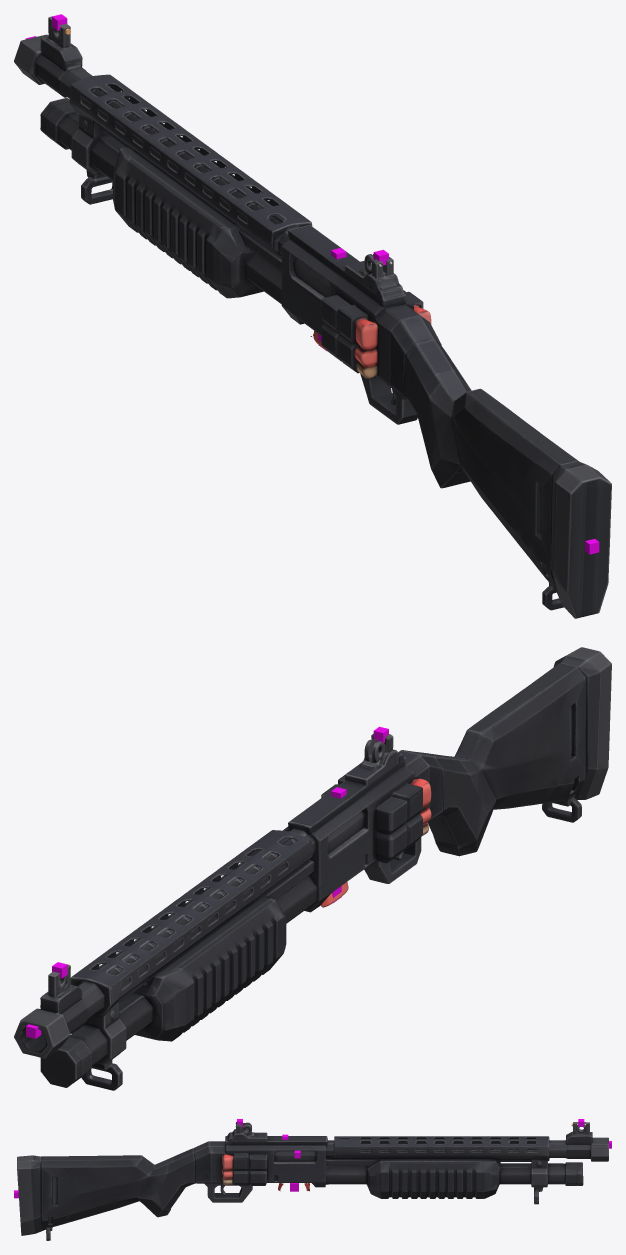
File: Shotgun.glb
3 renders of one model, top to bottom at view 1: azimuth 30°, elevation 25°; view 2: azimuth 150°, elevation 25°; view 3: azimuth 270°, elevation 25°, orthographic. The views are drawn at different scales.
Parts seen in each view (by area): view 1: Skin_Body_05, Skin_Body_06, Skin_Body_04, Skin_Body_01, Skin_Tube, Pump_05, Skin_Body_03, Skin_Barrel_01, Skin_Body_02, Skin_Barrel_08, Pump_03, Skin_Barrel_05 (+8 smaller); view 2: Skin_Body_05, Skin_Body_01, Skin_Body_06, Skin_Body_02, Skin_Tube, Skin_Barrel_01, Pump_01, Skin_Body_04, Skin_Body_03, Skin_Barrel_08, Skin_Barrel_05, Pump_03 (+8 smaller); view 3: Skin_Body_05, Skin_Body_01, Skin_Body_06, Skin_Body_04, Skin_Tube, Skin_Body_02, Skin_Barrel_01, Skin_Body_03, Pump_01, Pump_05, Pump_03, Pump_04 (+8 smaller).
Boxes of the visible parts, x1,y1,x2,y2 form: Skin_Body_05: (409,346,567,579); Skin_Body_06: (536,453,611,618); Skin_Body_04: (357,290,446,424); Skin_Body_01: (246,225,356,335); Skin_Tube: (40,98,125,204); Pump_05: (197,214,263,298); Skin_Body_03: (338,256,423,413); Skin_Barrel_01: (14,16,92,98); Skin_Body_02: (321,254,408,390); Skin_Barrel_08: (245,203,312,268); Pump_03: (153,181,204,270); Skin_Barrel_05: (150,133,224,185); Skin_Body_05: (423,669,578,856); Skin_Body_01: (132,788,366,1028); Skin_Body_06: (542,647,611,822); Skin_Body_02: (321,738,413,878); Skin_Tube: (40,994,150,1090); Skin_Barrel_01: (14,965,109,1058); Pump_01: (134,956,203,1041); Skin_Body_04: (389,750,451,874); Skin_Body_03: (339,734,430,883); Skin_Barrel_08: (246,822,313,891); Skin_Barrel_05: (151,893,226,947); Pump_03: (195,924,246,1013); Skin_Body_05: (44,1150,189,1226); Skin_Body_01: (273,1136,501,1187); Skin_Body_06: (17,1155,55,1240); Skin_Body_04: (186,1135,229,1202); Skin_Tube: (501,1162,583,1204); Skin_Body_02: (243,1122,282,1196); Skin_Barrel_01: (549,1122,608,1161); Skin_Body_03: (226,1121,247,1202); Pump_01: (465,1158,500,1198); Pump_05: (366,1158,401,1198); Pump_03: (417,1158,446,1198); Pump_04: (396,1158,423,1198).
Bounding box in the file's own units: 0.2961 × 0.8634 × 3.99.
4 materials, 1 textured.
